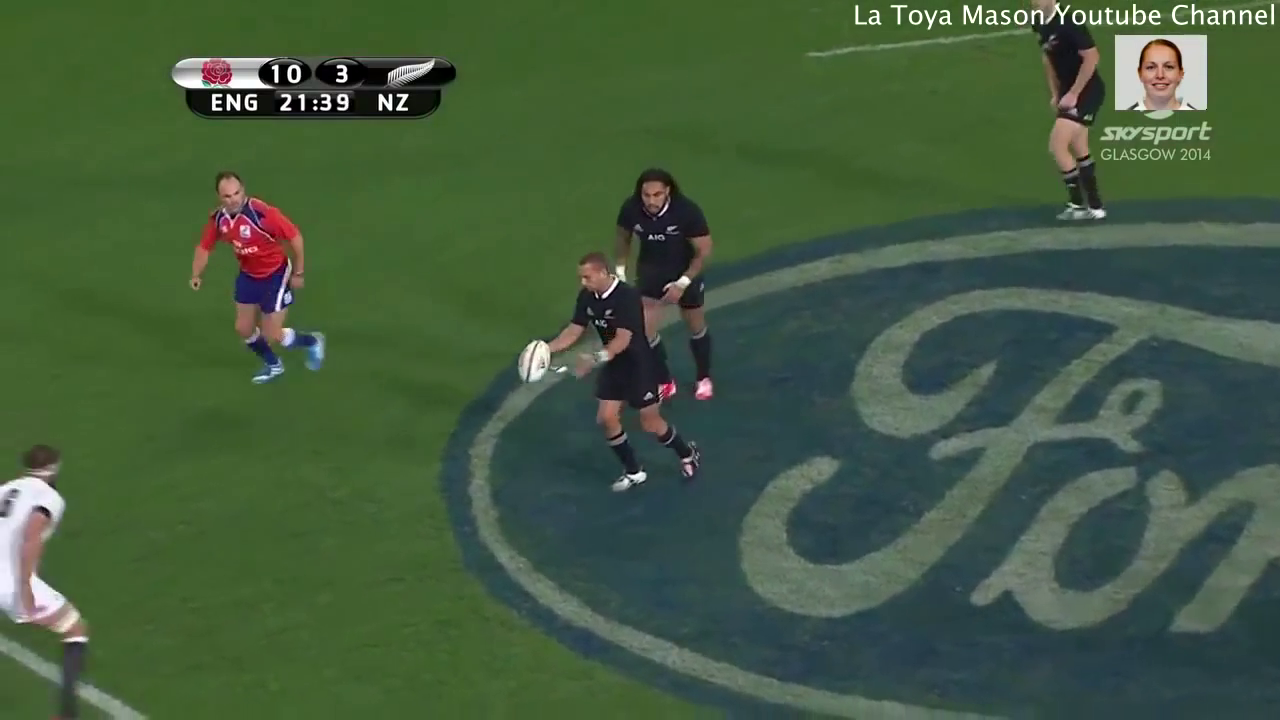ball: (509, 318, 560, 405)
player: (481, 246, 719, 507), (170, 160, 345, 406), (1, 426, 129, 720), (592, 163, 730, 416), (991, 1, 1123, 233)
